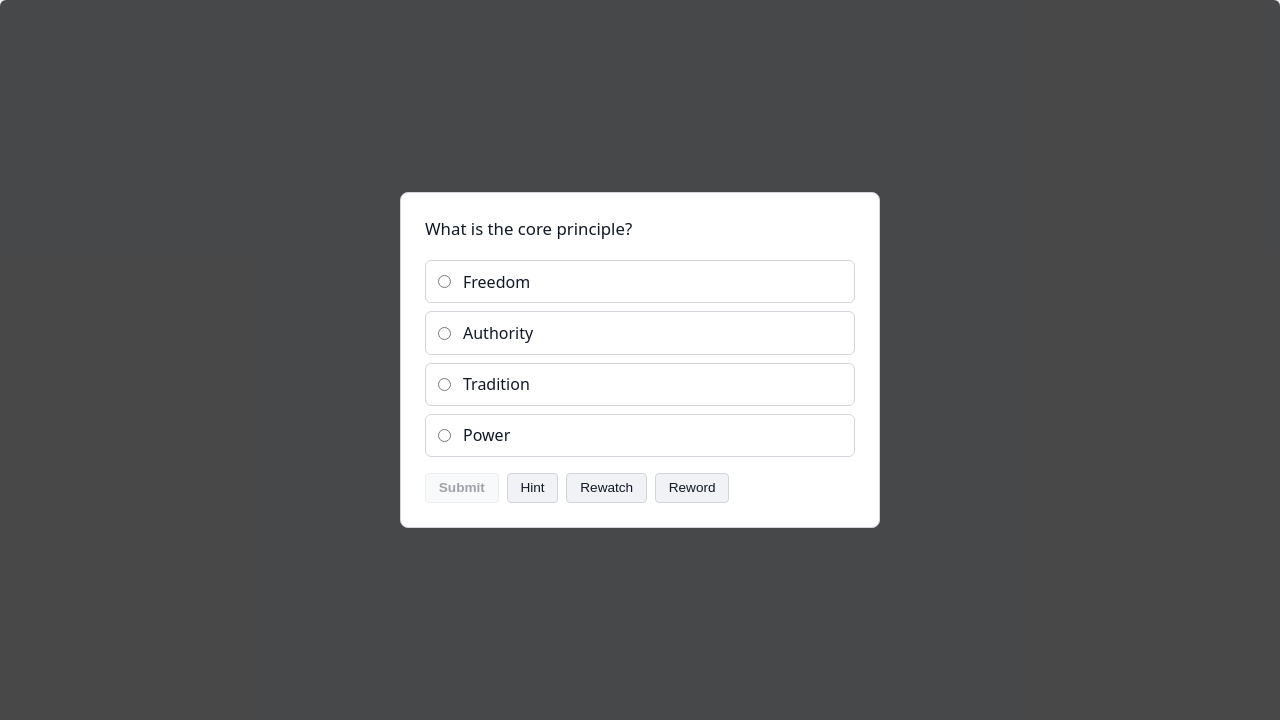
Test case: QuestionOverlay › shows feedback and lets user retry after wrong answer
Step 1. Click the radio button labelled "Authority" → (444, 333), box x1=438 y1=326 x2=451 y2=340
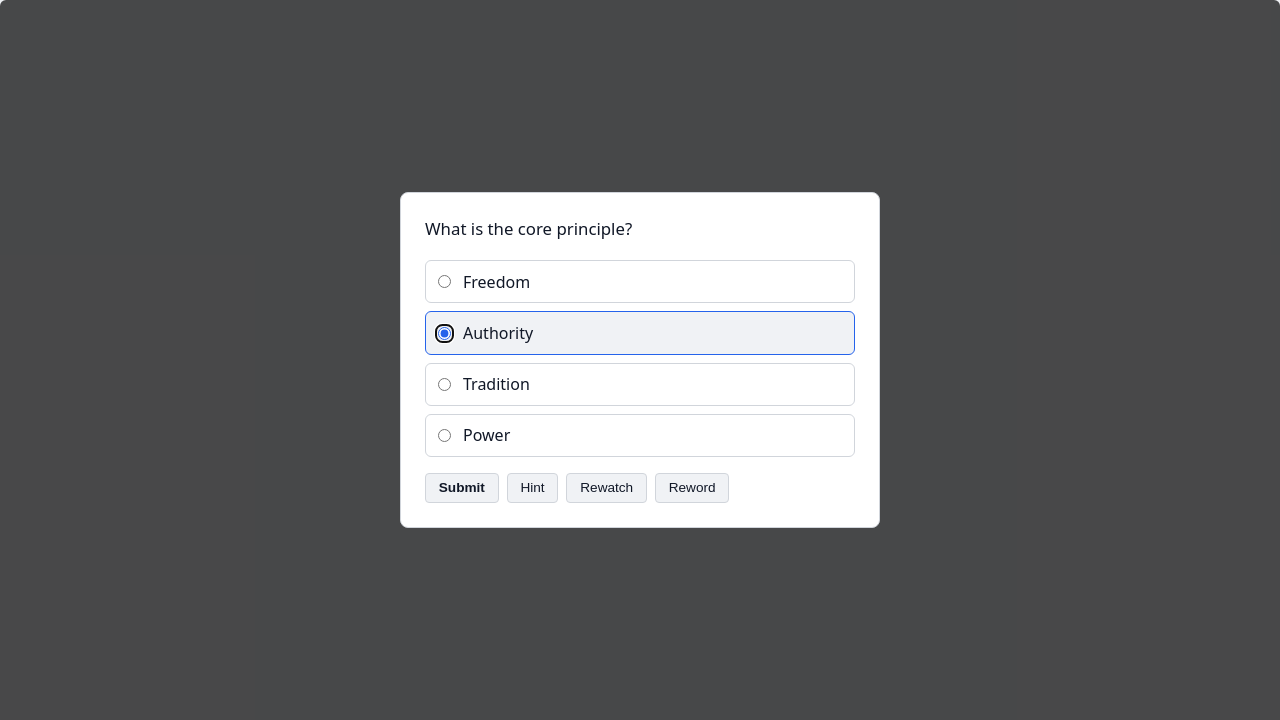
Step 2. Click the button "Submit" → (462, 488), box x1=425 y1=473 x2=499 y2=503
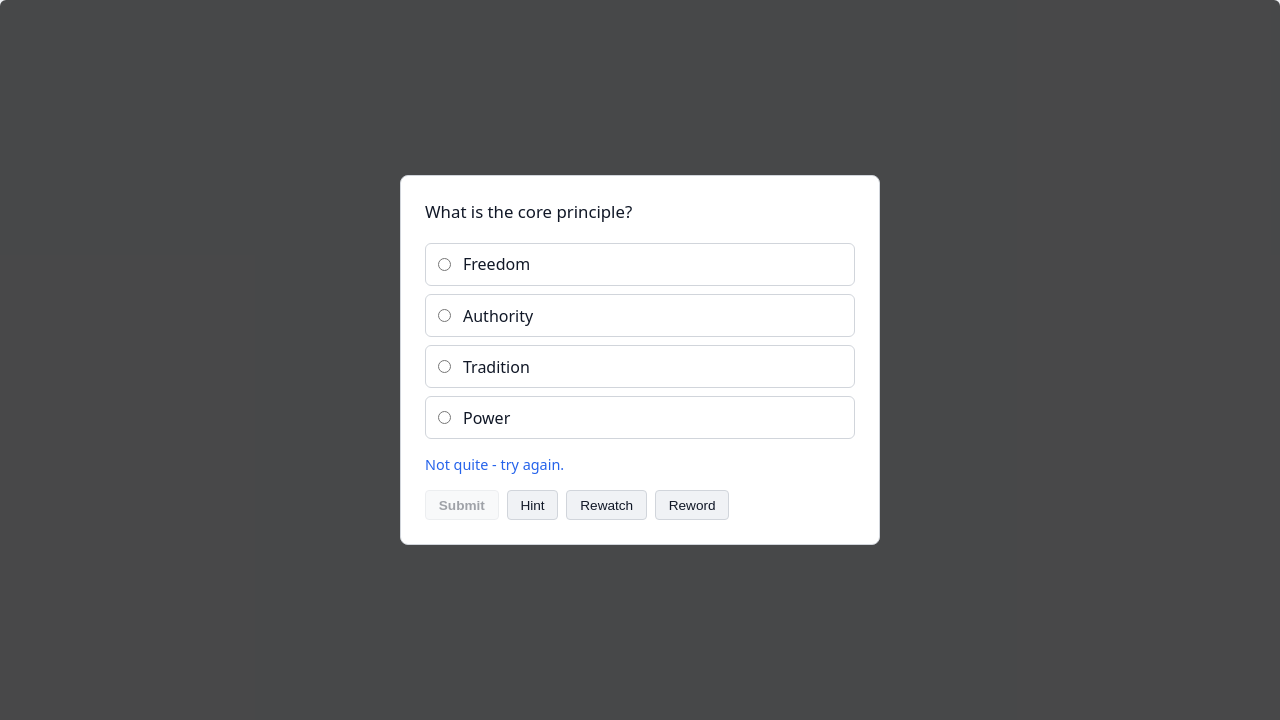
Result: the text "Not quite - try again." is shown at x1=425 y1=456 x2=564 y2=474
